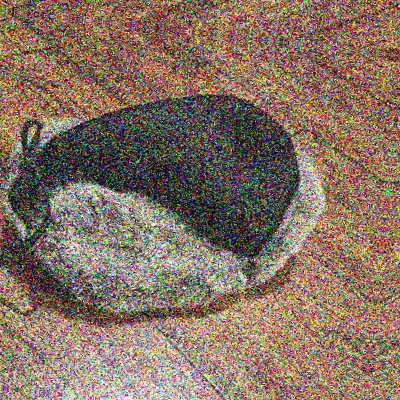Hat: (0, 58, 359, 348), (11, 0, 398, 3)
